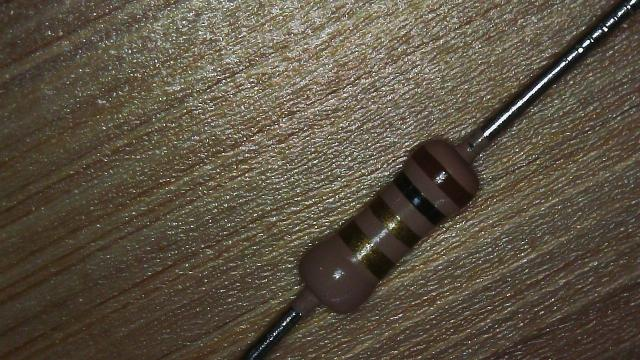black: (394, 173, 444, 224)
brown: (413, 146, 472, 207)
gold: (369, 196, 422, 248), (337, 224, 390, 276)
resistor: (276, 112, 512, 334)
